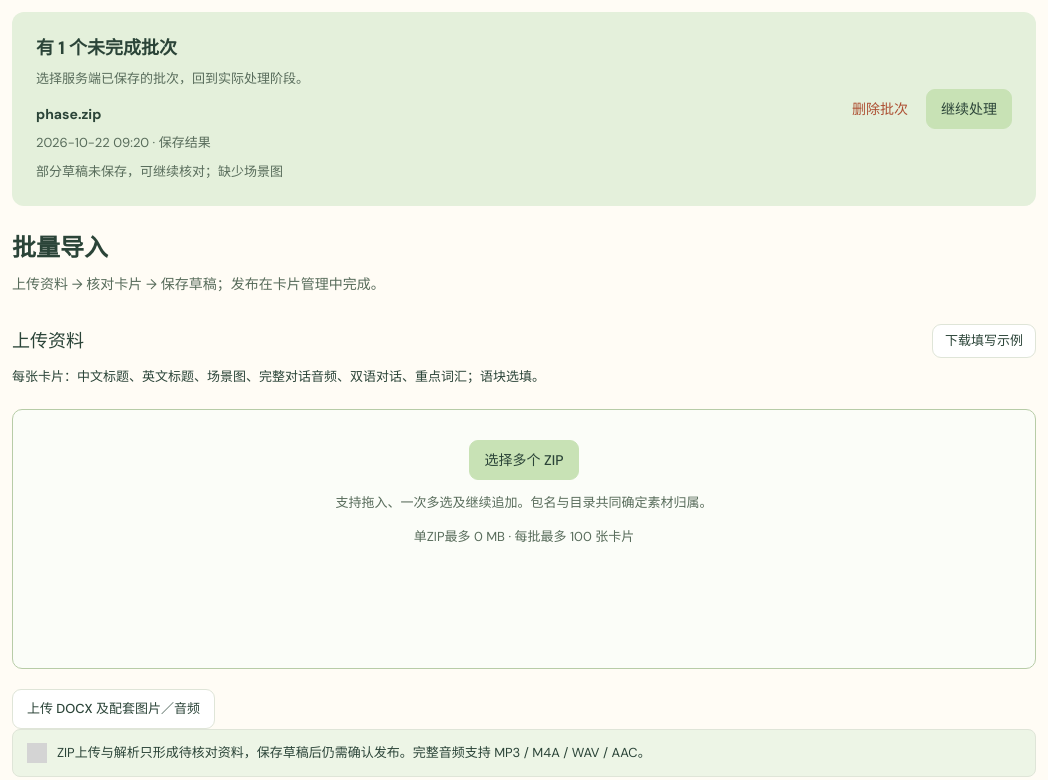
Test: restores the server result phase instead of inferring review from items
The image size is (1048, 780).
Click the button "继续处理".
click(969, 109)  # box [926, 89, 1012, 129]
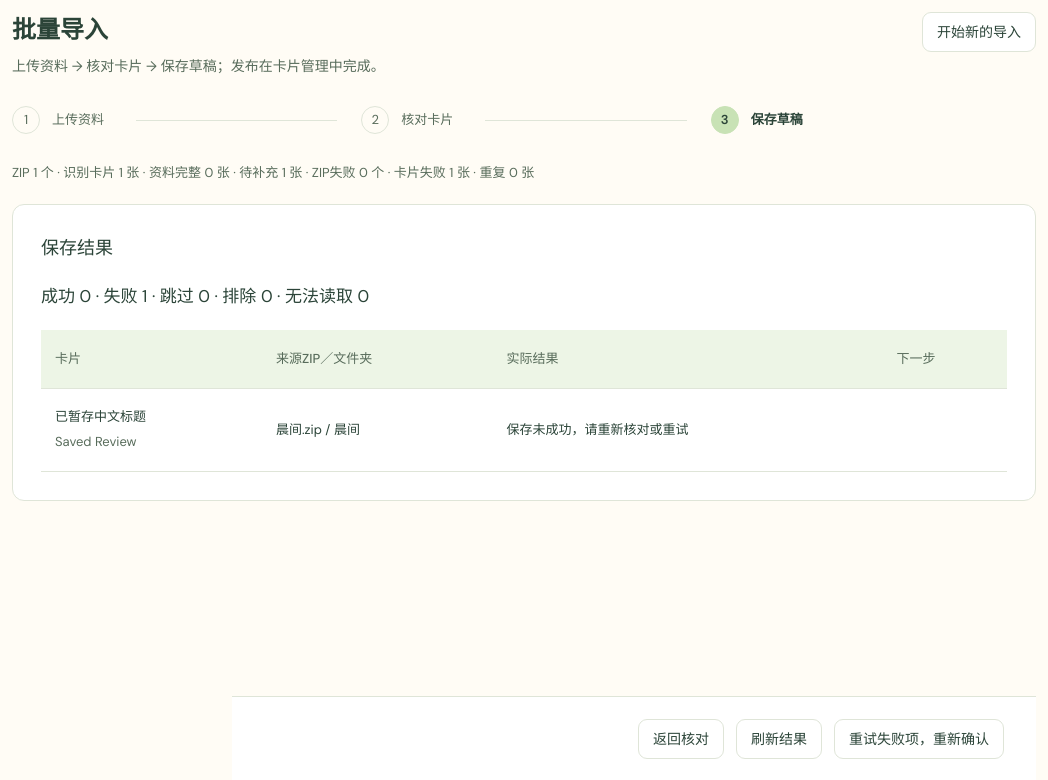
expect the list item "3 保存草稿" is shown: met, box [711, 106, 803, 134]
